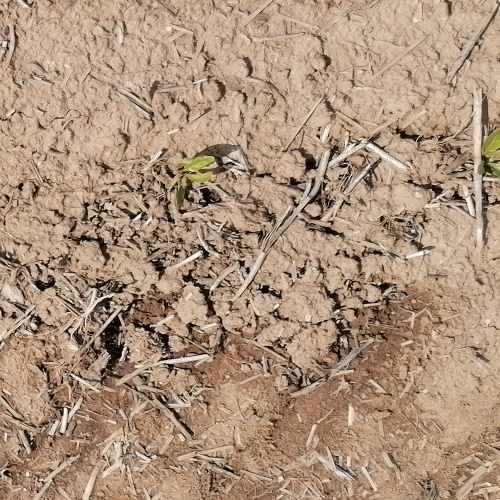beet: (171, 157, 213, 196), (476, 128, 500, 177)
